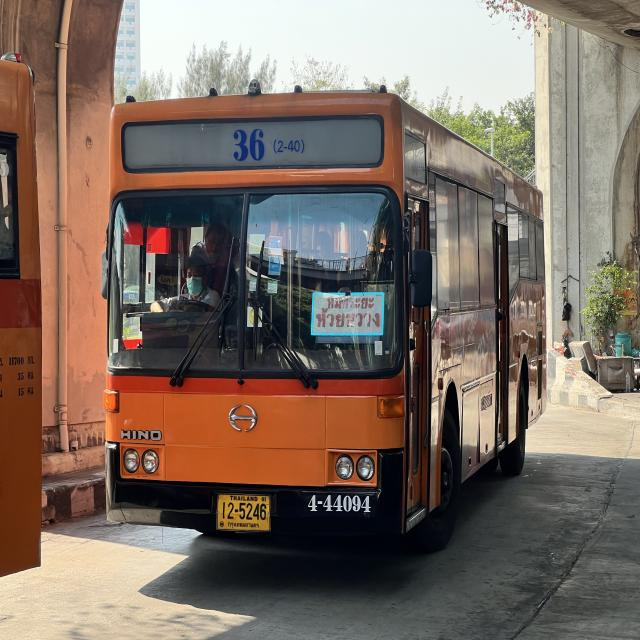BMTA-bus: (100, 93, 550, 552)
Bus-Line-Number: (228, 122, 312, 170)
Destination-Sign-Extra-Bus: (311, 292, 384, 338)
